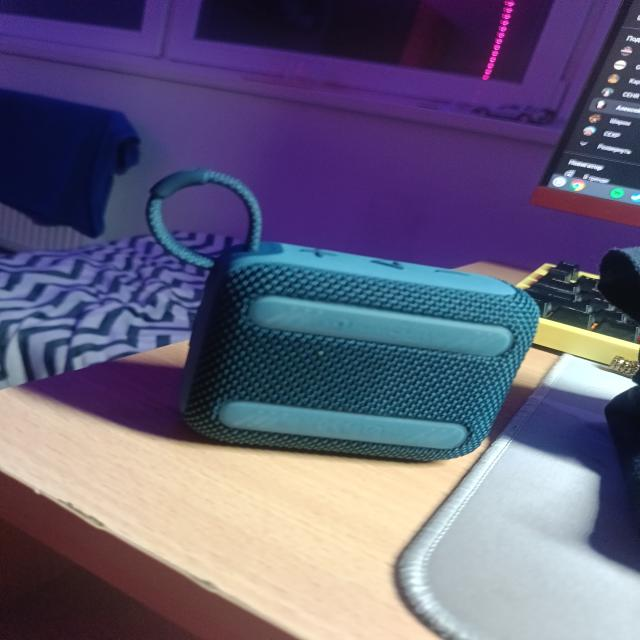column JBL: (219, 243, 537, 460)
